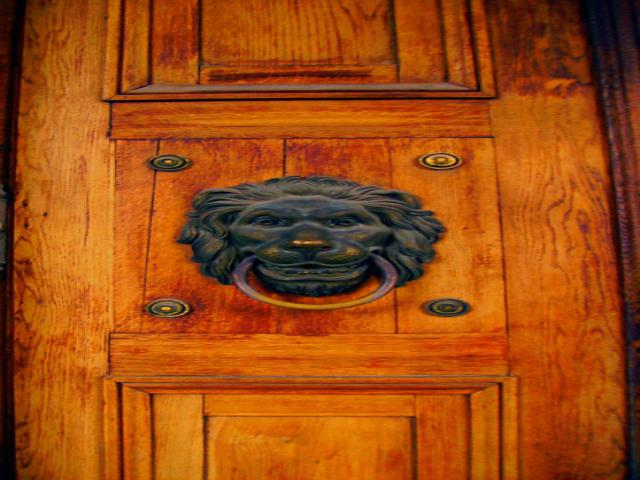Door-handle: (159, 176, 447, 317)
